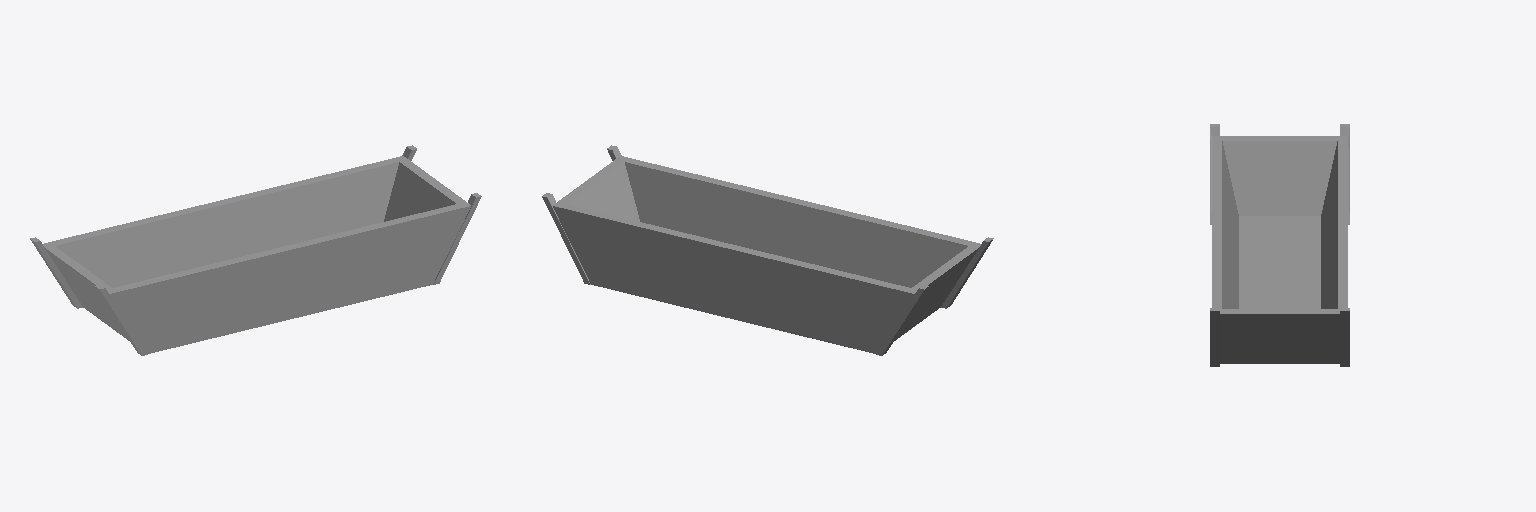
File: Trough.obj
3 views of the same model, side by side, from view 1: azimuth 30°, elevation 25°; view 2: azimuth 150°, elevation 25°; view 3: azimuth 270°, elevation 25° (orthographic).
Parts seen in each view (by area): view 1: Trough; view 2: Trough; view 3: Trough.
Boxes of the visible parts, x1=… form: Trough: x1=30, y1=145, x2=481, y2=355; Trough: x1=542, y1=145, x2=993, y2=355; Trough: x1=1210, y1=124, x2=1349, y2=366.
Bounding box in the file's own units: 1.79 × 0.3451 × 0.5655.